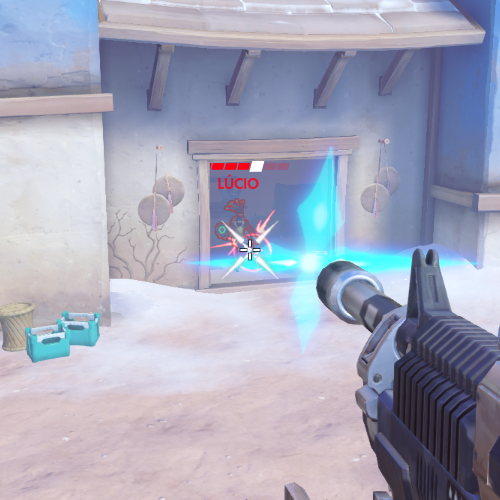hpbar: (209, 162, 290, 171)
